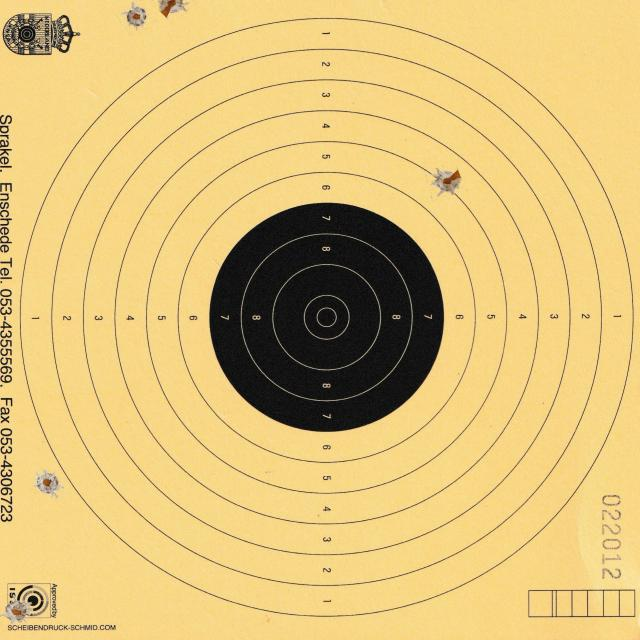0: (0, 598, 36, 626), (32, 468, 64, 499), (120, 2, 148, 32), (156, 0, 190, 20)
5: (428, 166, 464, 197)
Target: (17, 16, 635, 622)
black_contour: (208, 203, 446, 433)
